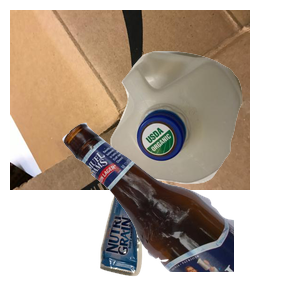cardboard: (10, 10, 250, 190)
glass: (60, 120, 300, 300)
plastic: (108, 49, 300, 226)
trash: (97, 152, 248, 300)
